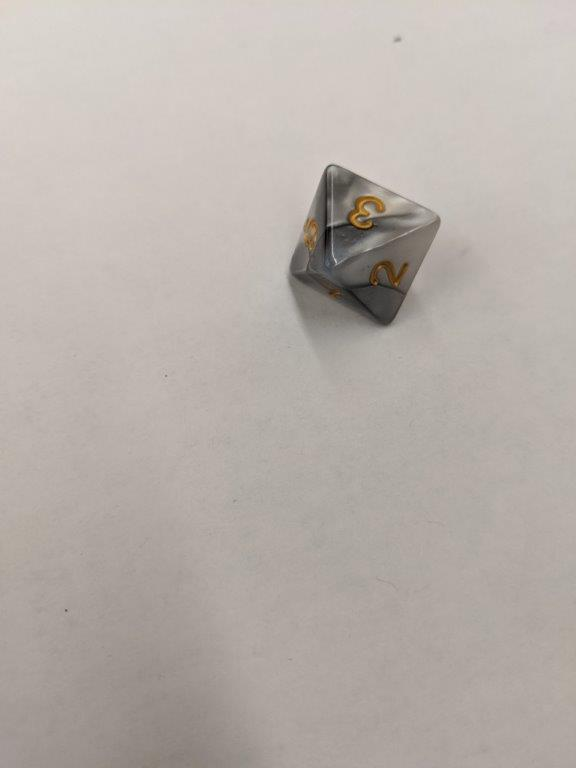d8-3: (288, 164, 446, 327)
